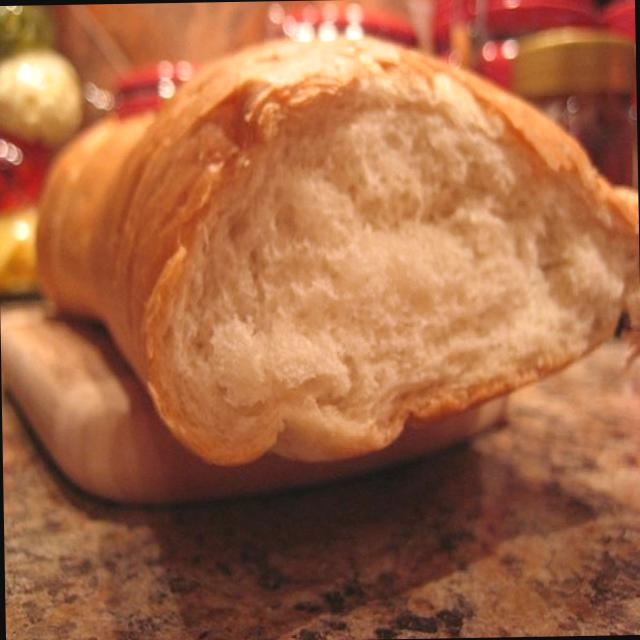Bread: (24, 15, 458, 362)
